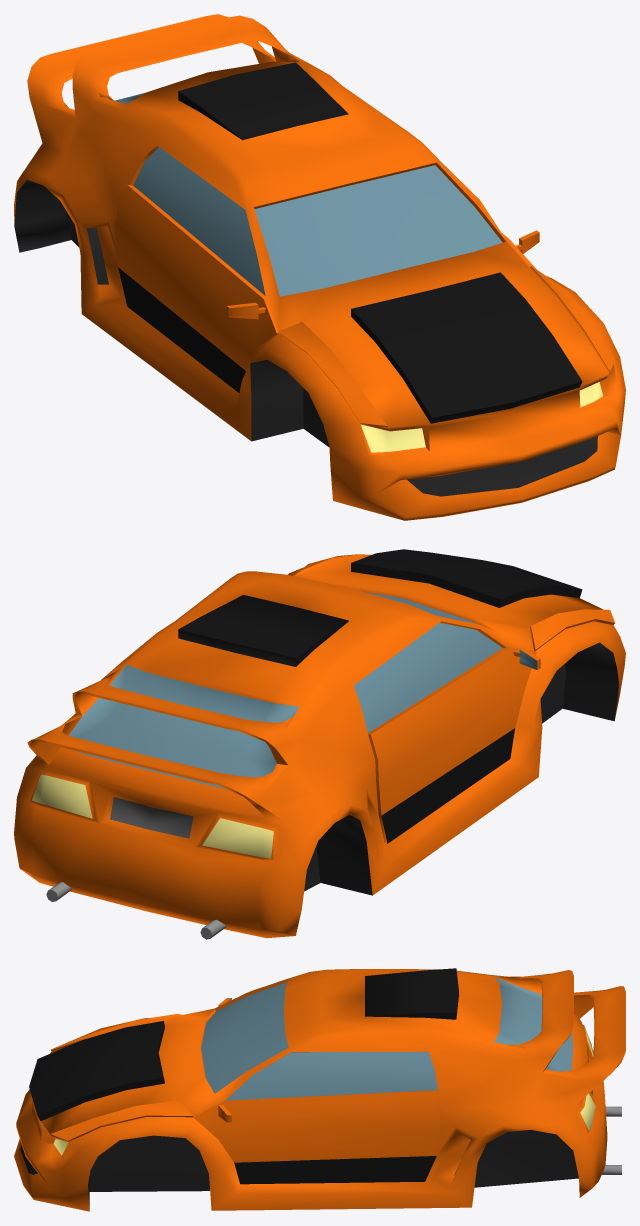
The model's file is Starbuck.fbx.
3 views of the same model, one above another, from view 1: azimuth 30°, elevation 25°; view 2: azimuth 150°, elevation 25°; view 3: azimuth 270°, elevation 25° (orthographic). The views are drawn at different scales.
Visible parts, largest first — view 1: Starbuck; view 2: Starbuck; view 3: Starbuck.
Part boxes in pixels (bbox=[...]): Starbuck: bbox=[14, 14, 625, 520]; Starbuck: bbox=[14, 549, 625, 938]; Starbuck: bbox=[14, 968, 625, 1211].
Bounding box in the file's own units: 266 × 180 × 585.
